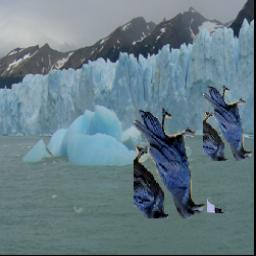Crow: (134, 108, 205, 219), (203, 84, 252, 161), (208, 136, 236, 214)
